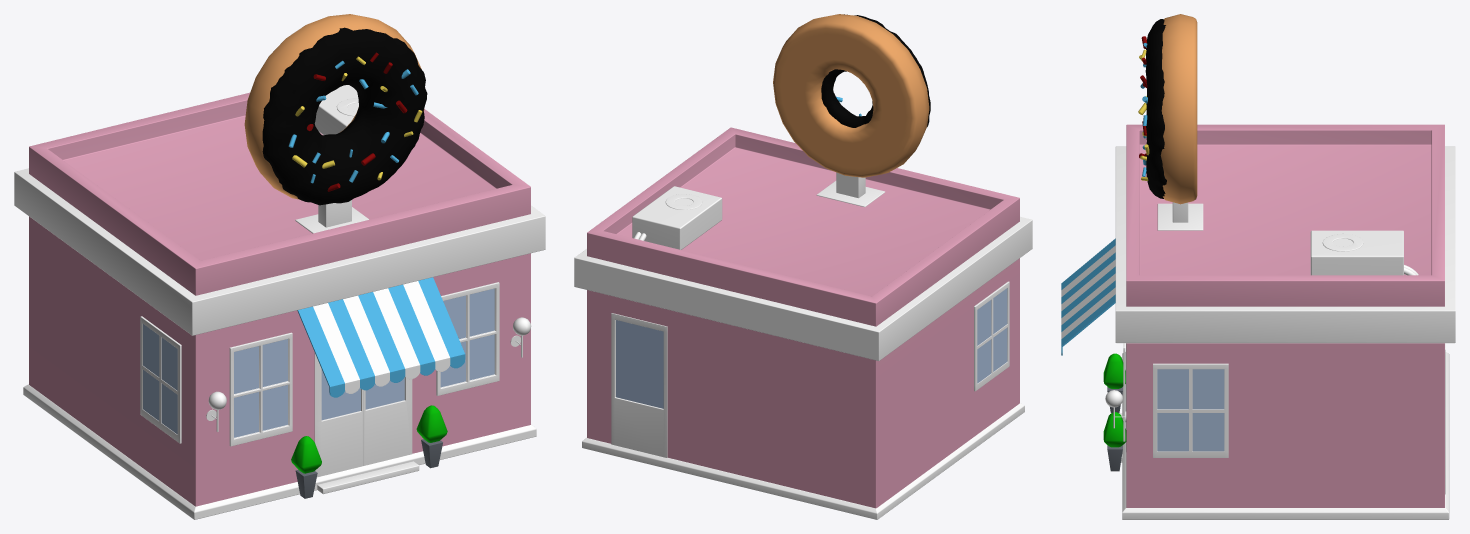
The model's file is DonutBuilding.fbx.
The picture shows the model from 3 angles, left to right: view 1: azimuth 30°, elevation 25°; view 2: azimuth 150°, elevation 25°; view 3: azimuth 270°, elevation 25°; orthographic projection. The views are drawn at different scales.
Visible parts, largest first — view 1: donut house; view 2: donut house; view 3: donut house.
Boxes of the visible parts, <box> form: donut house: <box>14,14,545,519</box>; donut house: <box>574,14,1032,519</box>; donut house: <box>1061,14,1455,519</box>.
Size of the model in its own units: 2096 by 2480 by 2123.
